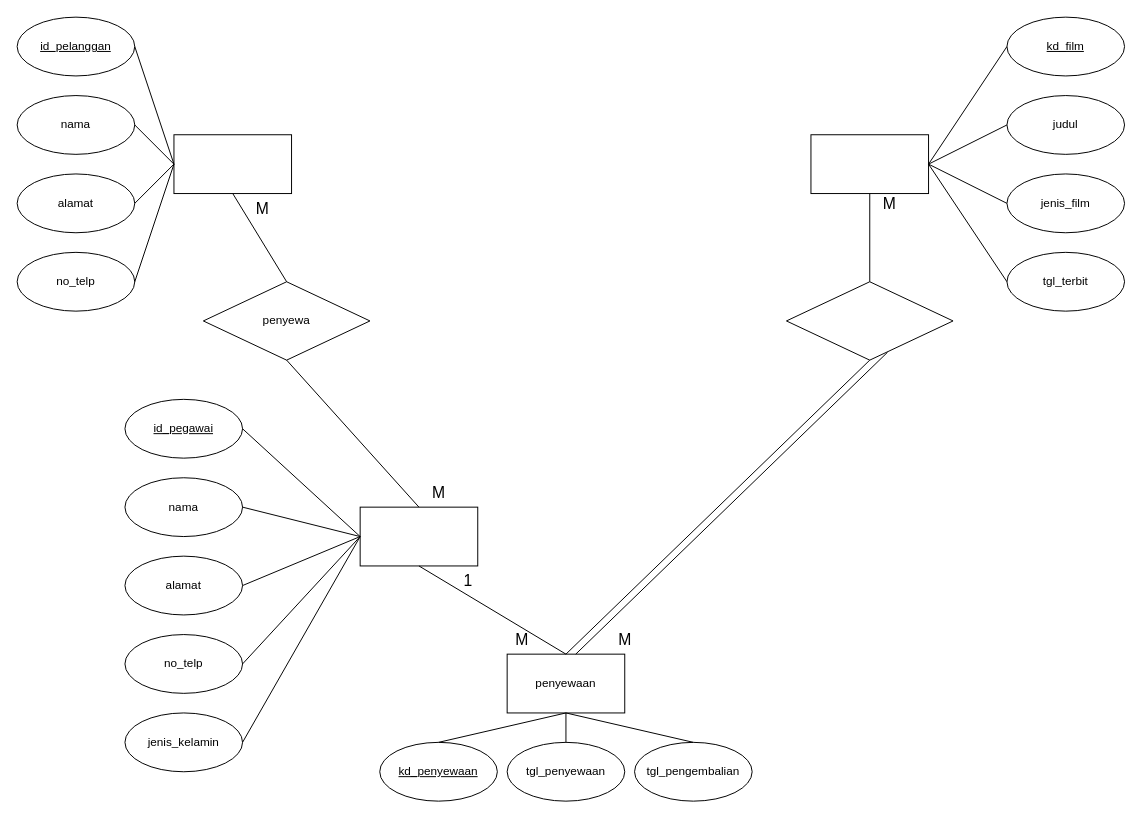
Some shapes in this 1142 by 818 pixel diagram are drawn without their labels. The shapes that lost their labels are listed below. From the top down, each one's centre as x and y in pixels, then its label:
At (x=232, y=164): "pelanggan".
At (x=869, y=164): "film".
At (x=869, y=320): "menyewa".
At (x=418, y=536): "pegawai".
